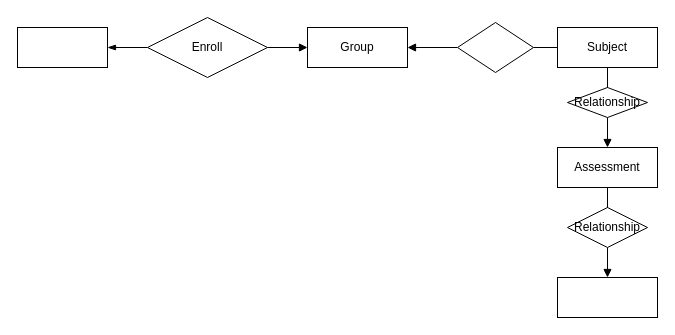
The diagram is 675 pixels wide and 335 high, and some of its shapes have lost their labels. The shapes that lost their labels are listed below. From the top down, each one's centre as x and y in pixels, then its label:
At (62,47): "Student".
At (495,47): "Has".
At (607,297): "Grade".
